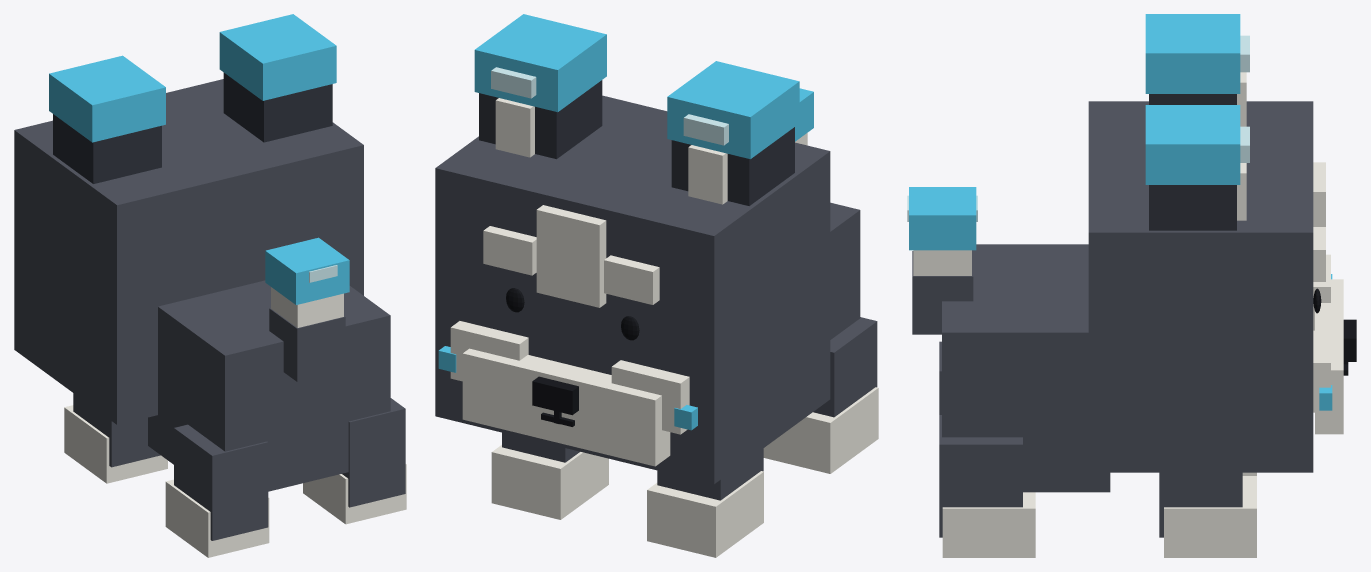
Rendered from Husky_Block.glb.
3 views of the same model, side by side, from view 1: azimuth 30°, elevation 25°; view 2: azimuth 150°, elevation 25°; view 3: azimuth 270°, elevation 25° (orthographic). The views are drawn at different scales.
Parts seen in each view (by area): view 1: BigHead, ShortTorso, LegBL_Leg, EarIceCapR, EarIceCapL, LegBR_Leg, TallEarR, TallEarL, TailIceTip, TailRoot, LegBL_Paw, LegFL_Paw (+3 smaller); view 2: BigHead, WhiteMuzzle, EarIceCapL, EarIceCapR, LegFL_Paw, LegFR_Paw, MaskBlaze, LegBL_Paw, TallEarL, TallEarR, LegBL_Leg, ShortTorso (+12 smaller); view 3: BigHead, ShortTorso, EarIceCapL, EarIceCapR, LegBR_Leg, LegFR_Paw, LegBR_Paw, TailIceTip, TallEarR, LegFR_Leg, WhiteMuzzle, TailRoot (+6 smaller).
Part boxes in pixels (x1,y1,x2,y2): BigHead: (14, 79, 363, 424); ShortTorso: (148, 280, 390, 491); LegBL_Leg: (174, 424, 268, 540); EarIceCapR: (219, 14, 336, 100); EarIceCapL: (49, 55, 165, 142); LegBR_Leg: (342, 398, 405, 507); TallEarR: (223, 72, 332, 142); TallEarL: (53, 114, 161, 183); TailIceTip: (265, 237, 349, 304); TailRoot: (269, 308, 345, 381); LegBL_Paw: (165, 479, 269, 557); LegFL_Paw: (64, 405, 167, 483); BigHead: (435, 95, 830, 484); WhiteMuzzle: (462, 348, 670, 466); EarIceCapL: (667, 61, 799, 159); EarIceCapR: (474, 14, 606, 112); LegFL_Paw: (647, 471, 763, 557); LegFR_Paw: (491, 445, 608, 519); MaskBlaze: (536, 205, 606, 307); LegBL_Paw: (763, 387, 878, 473); TallEarL: (671, 127, 794, 205); TallEarR: (479, 80, 602, 159); LegBL_Leg: (813, 317, 877, 417); ShortTorso: (830, 202, 860, 339); BigHead: (1088, 101, 1313, 472); ShortTorso: (942, 244, 1110, 492); EarIceCapL: (1145, 14, 1240, 93); EarIceCapR: (1145, 105, 1240, 184); LegBR_Leg: (939, 415, 1022, 537); LegFR_Paw: (1164, 476, 1256, 557); LegBR_Paw: (942, 492, 1035, 557); TailIceTip: (909, 187, 976, 250); TallEarR: (1149, 185, 1236, 230); LegFR_Leg: (1159, 472, 1242, 537); WhiteMuzzle: (1315, 279, 1343, 434); TailRoot: (912, 251, 973, 334).
Bounding box in the file's own units: 1.94 × 2.93 × 2.8.
